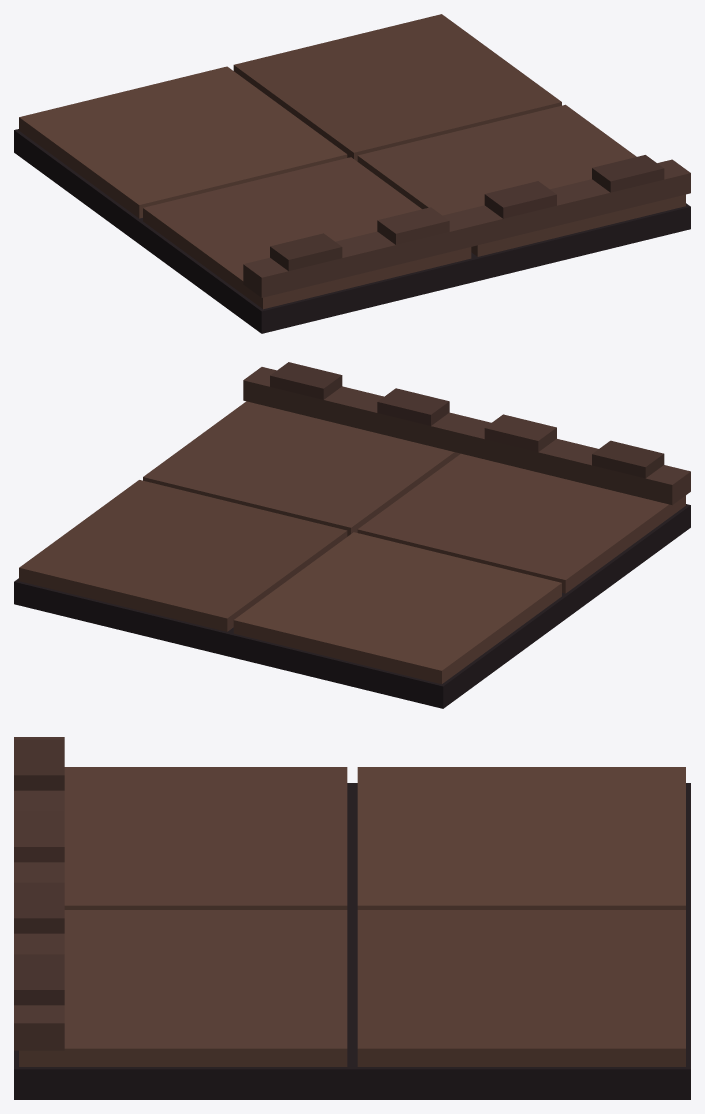
The model's file is floor_edge_4m.glb.
3 renders of one model, top to bottom at view 1: azimuth 30°, elevation 25°; view 2: azimuth 150°, elevation 25°; view 3: azimuth 270°, elevation 25°, orthographic. The views are drawn at different scales.
Parts seen in each view (by area): view 1: floor_edge_4m; view 2: floor_edge_4m; view 3: floor_edge_4m.
Boxes of the visible parts, box(x1,y1,x2,y2) form: floor_edge_4m: box(14, 14, 690, 333); floor_edge_4m: box(14, 362, 690, 708); floor_edge_4m: box(14, 737, 690, 1099).
Bounding box in the file's own units: 4 × 0.6 × 4.
